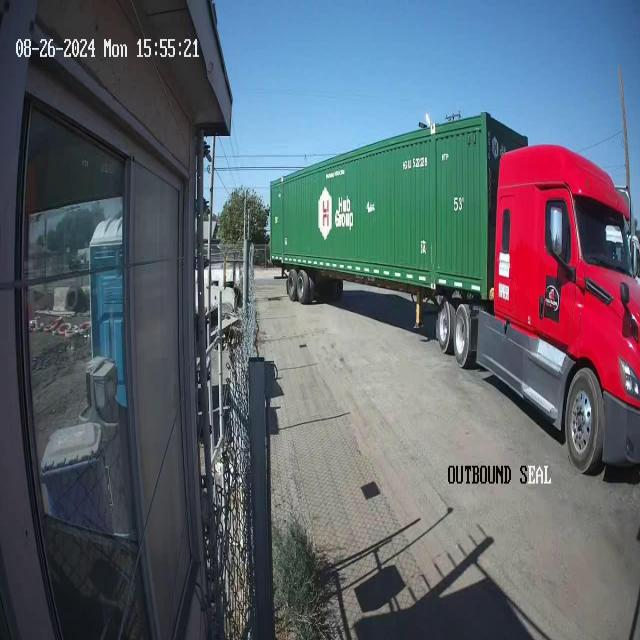TRUCK_CONTAINER: (269, 108, 639, 476)
